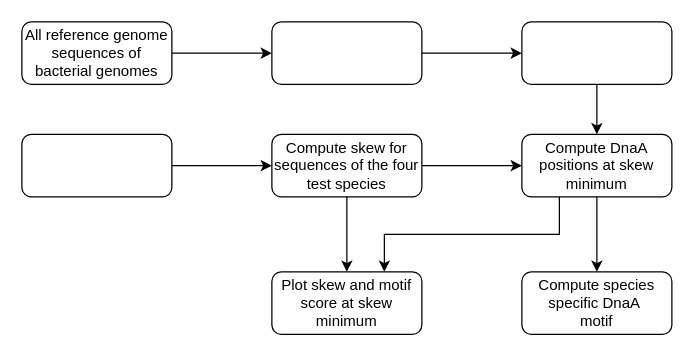
The diagram is 694 pixels wide and 356 high, and some of its shapes have lost their labels. The shapes that lost their labels are listed below. From the top down, each one's centre as x and y in pixels, then its label:
[346,52]: Compute skew minmum for all bacteria
[596,52]: Compute DnaA motif with MEME
[96,165]: Sequences of the four test species and their families
